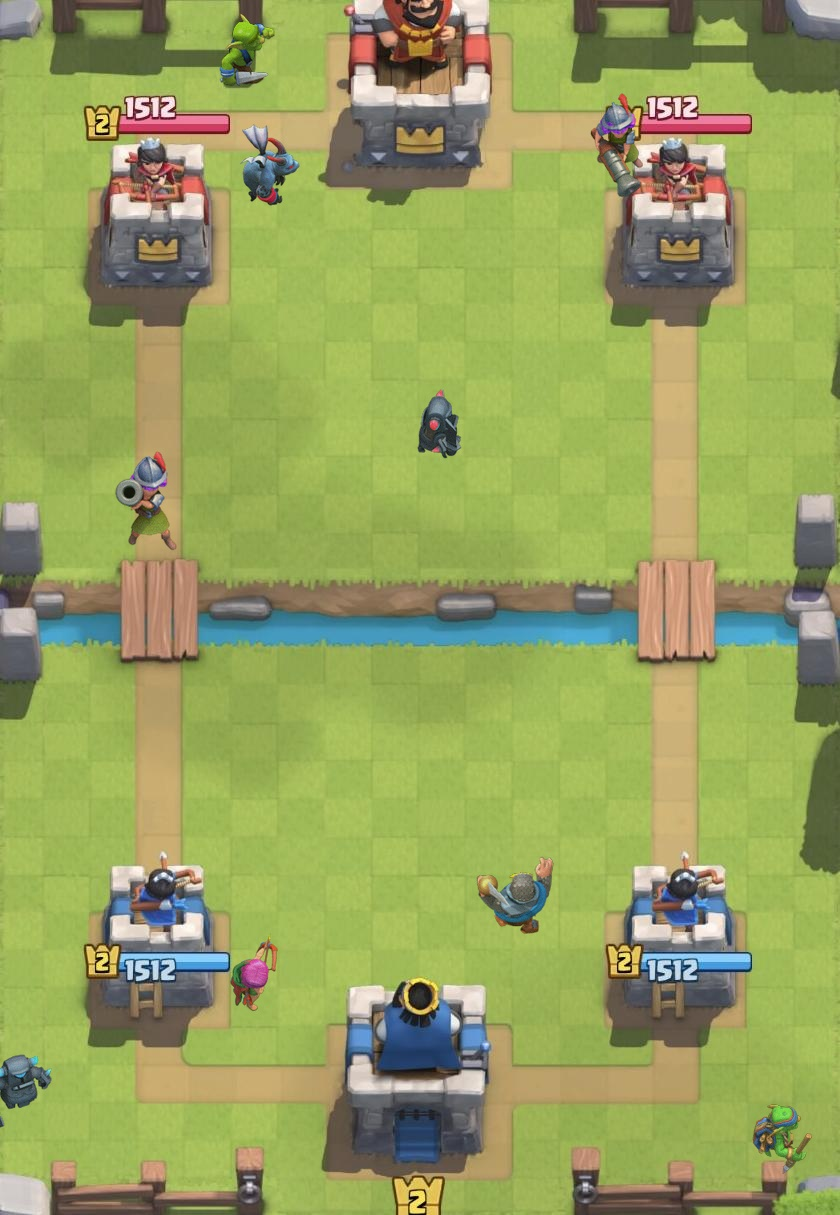archer_enemy: (230, 933, 278, 1011)
goblin_ally: (219, 13, 275, 87)
knight_ally: (476, 856, 554, 934)
mekka_ally: (0, 1054, 52, 1128)
mekka_enemy: (417, 389, 462, 459)
minion_enemy: (240, 124, 300, 206)
musketeer_enemy: (115, 451, 177, 551), (590, 93, 643, 198)
spoblin_ally: (752, 1104, 812, 1174)
